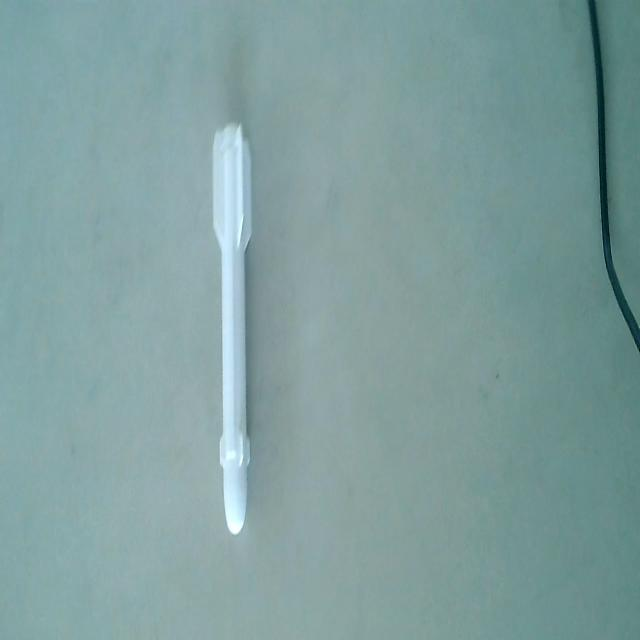Rocket: (209, 119, 256, 543)
